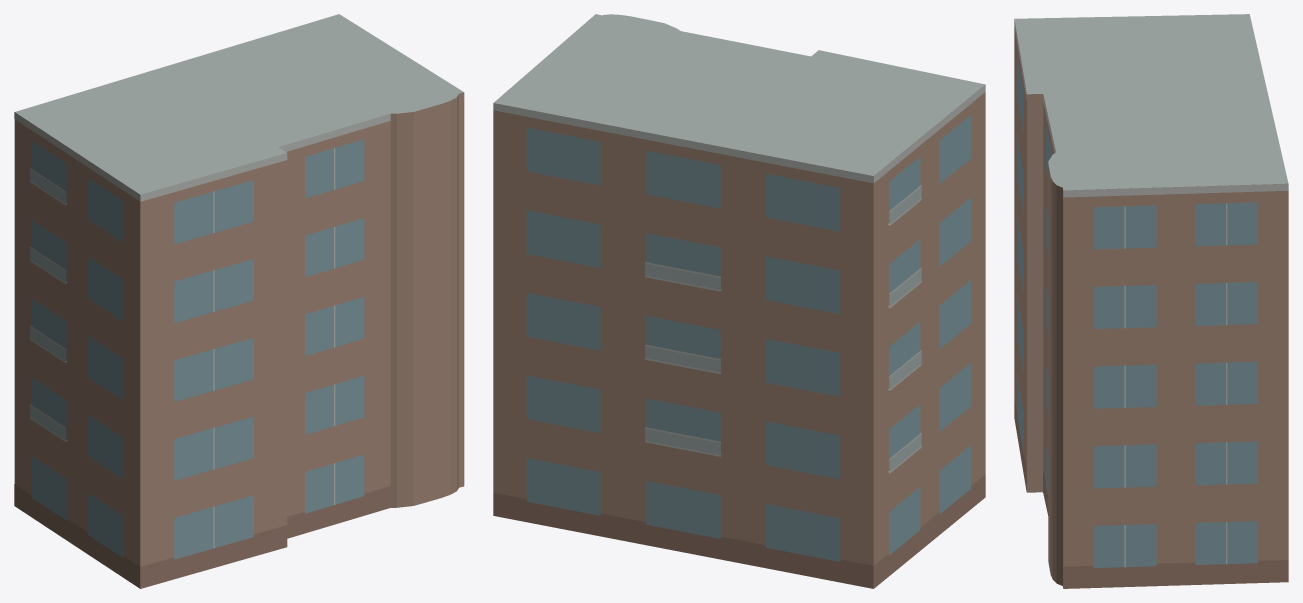
File: survey-upis-32470036.glb
3 views of the same model, side by side, from view 1: azimuth 30°, elevation 25°; view 2: azimuth 150°, elevation 25°; view 3: azimuth 270°, elevation 25° (orthographic). The views are drawn at different scales.
Parts seen in each view (by area): view 1: survey-upis-32470036.tmp; view 2: survey-upis-32470036.tmp; view 3: survey-upis-32470036.tmp.
Boxes of the visible parts, x1,y1,x2,y2 form: survey-upis-32470036.tmp: (14,14,464,588); survey-upis-32470036.tmp: (493,14,985,588); survey-upis-32470036.tmp: (1014,14,1288,588).
Size of the model in its own units: 13.02 by 13.7 by 8.56.
